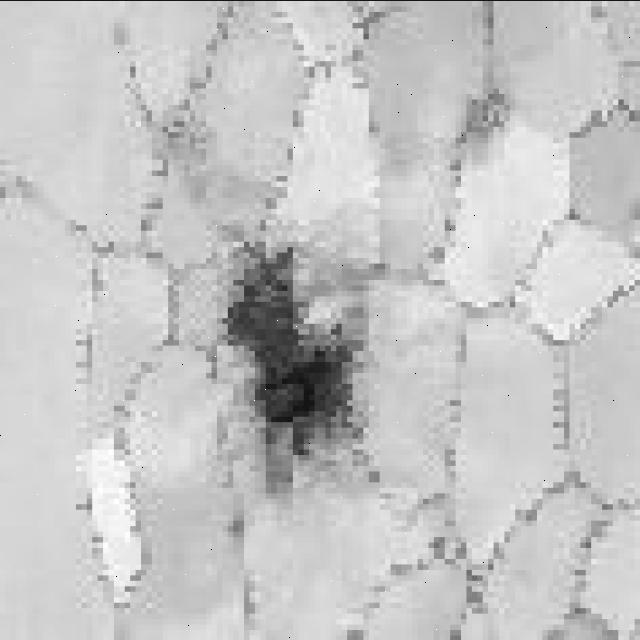good_void: (217, 236, 386, 494), (467, 86, 512, 140)
